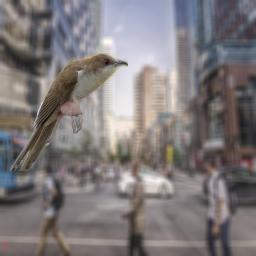Cuckoo: (10, 53, 128, 171)
